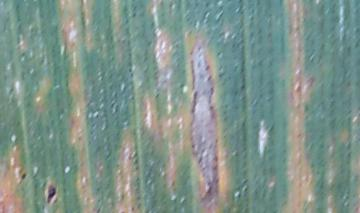tarspot: (46, 183, 56, 205), (20, 171, 27, 180)
